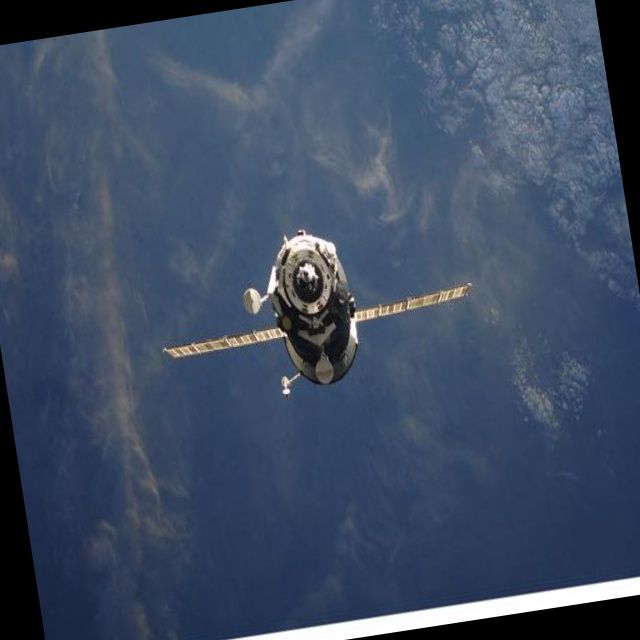medium_debris: (135, 191, 505, 452)
